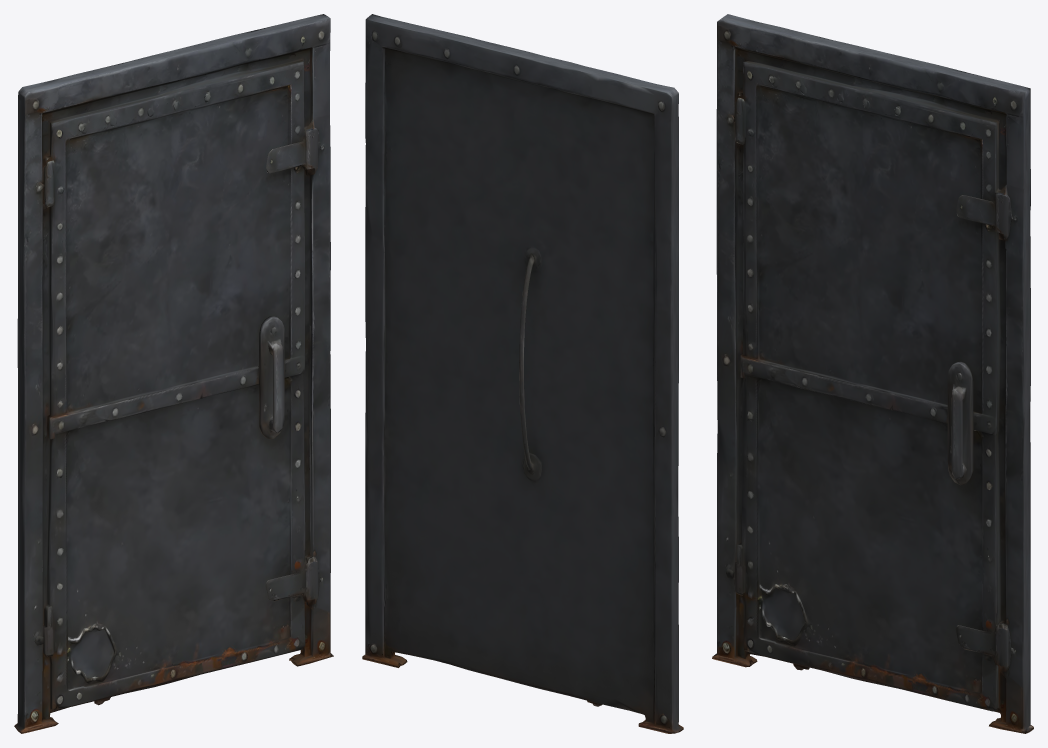
File: level-xw0-iron-door.glb
3 views of the same model, side by side, from view 1: azimuth 30°, elevation 25°; view 2: azimuth 150°, elevation 25°; view 3: azimuth 330°, elevation 25° (orthographic).
Visible parts, largest first — view 1: tripo_node_70e550dc-510f-4a02-844a-e993504e7f95; view 2: tripo_node_70e550dc-510f-4a02-844a-e993504e7f95; view 3: tripo_node_70e550dc-510f-4a02-844a-e993504e7f95.
Boxes of the visible parts, x1,y1,x2,y2 form: tripo_node_70e550dc-510f-4a02-844a-e993504e7f95: [14, 14, 333, 733]; tripo_node_70e550dc-510f-4a02-844a-e993504e7f95: [362, 14, 683, 733]; tripo_node_70e550dc-510f-4a02-844a-e993504e7f95: [712, 14, 1033, 733].
Bounding box in the file's own units: 1.15 × 2.25 × 0.14.
1 material, 1 textured.
